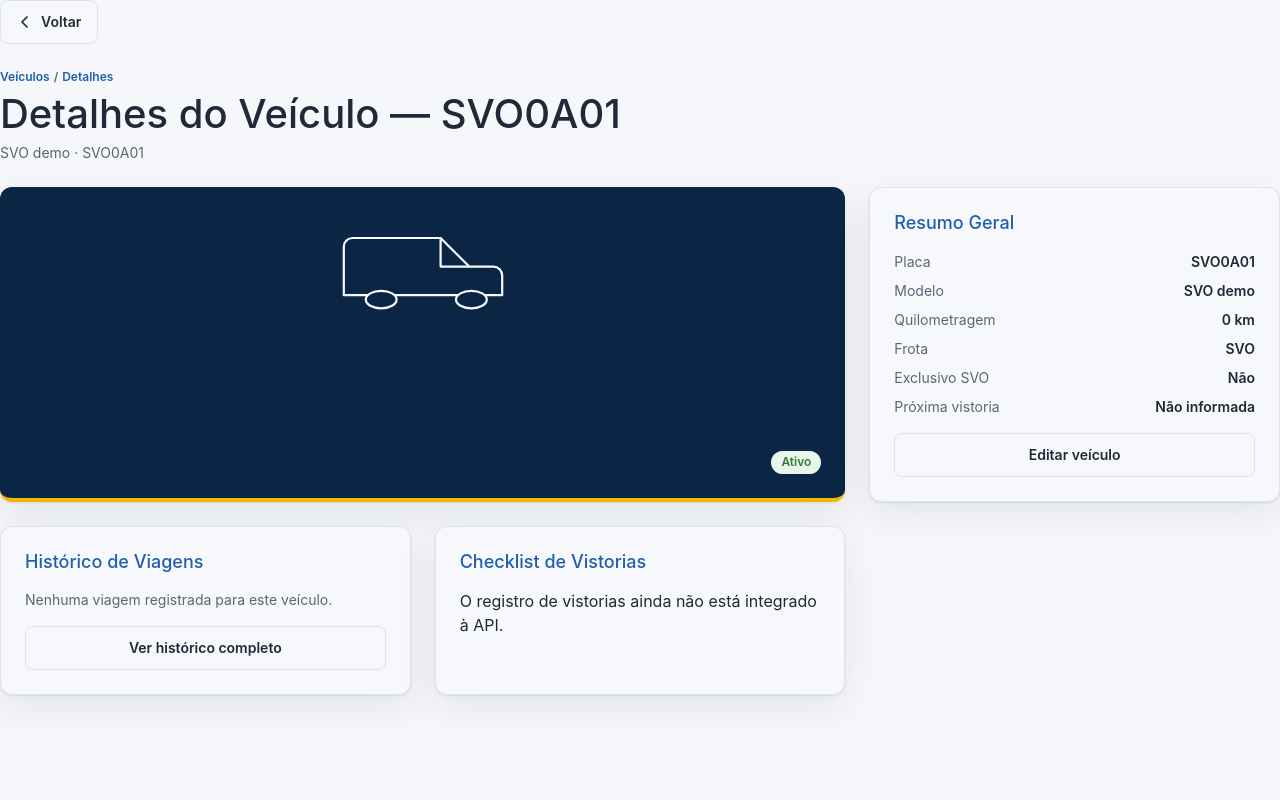
it: exibe card de vistoria indisponível e abre/fecha o histórico sem inventar viagens
This screenshot has width=1280, height=800.
Expected: the heading "Checklist de Vistorias" is shown, [460,550,646,572]
Expected: the text "O registro de vistorias ainda não está integrado à API." is shown, [460,589,820,637]
Step 1. Click the button "Ver histórico completo" → (205, 648), box [25,626,386,670]
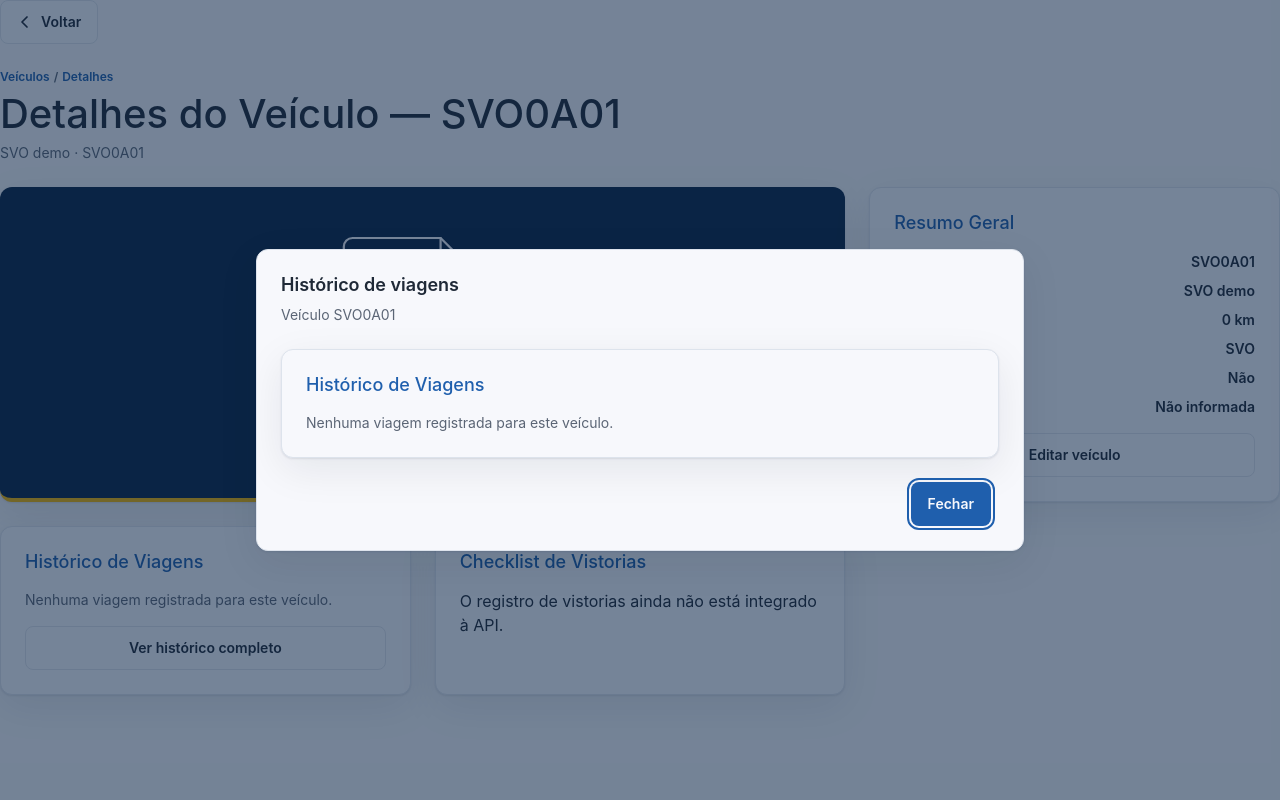
Expected: the text "Nenhuma viagem registrada para este veículo." is shown, [306,414,613,431]
Step 2. Click the button "Fechar" → (951, 504), box [911,482,991,526]
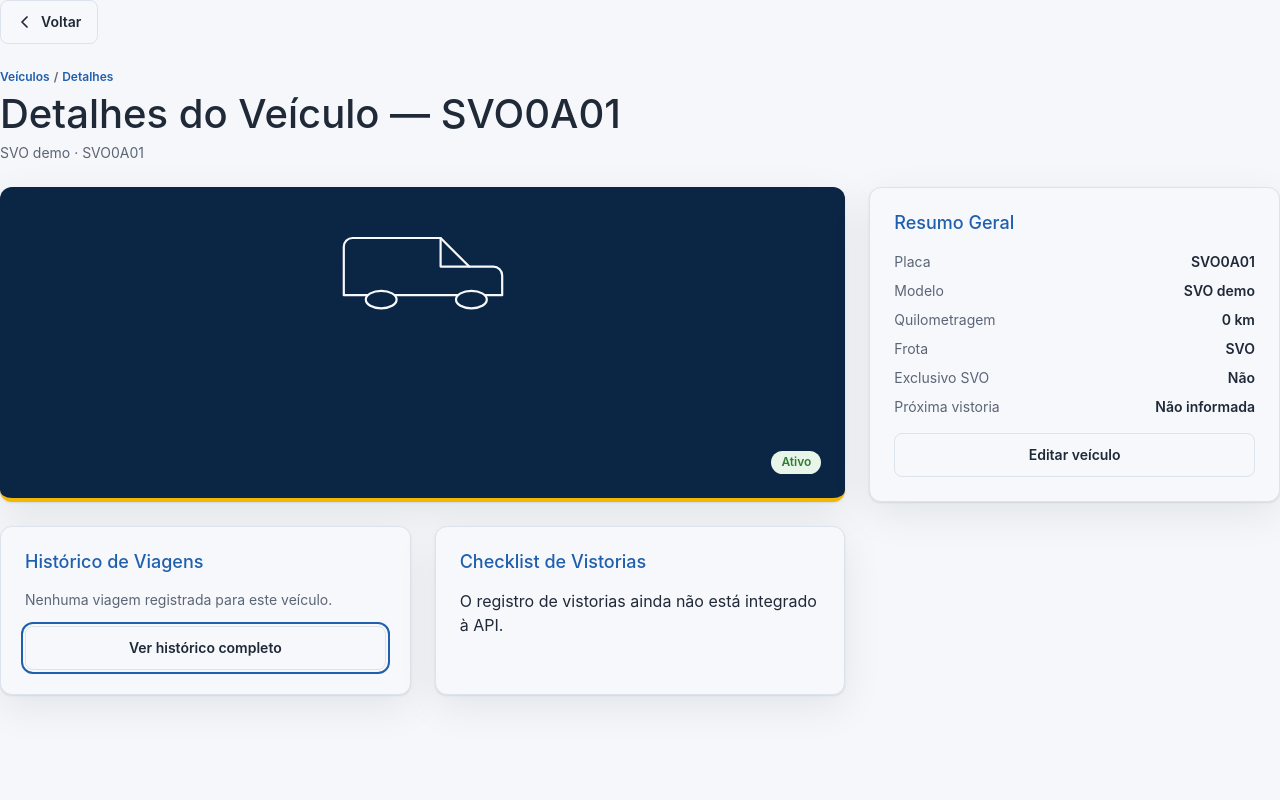
Expected: the dialog is gone
